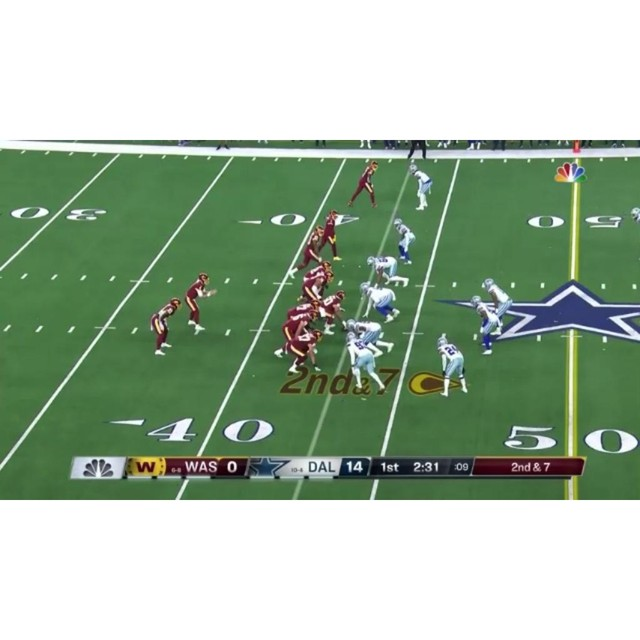american-football-player: (346, 332, 387, 394), (273, 309, 319, 358), (184, 273, 216, 335), (289, 225, 327, 277), (436, 335, 468, 396), (470, 295, 500, 355), (286, 328, 324, 375), (359, 280, 401, 322), (151, 298, 181, 356), (482, 278, 513, 334), (348, 160, 379, 208), (345, 318, 384, 355), (368, 255, 410, 287), (318, 290, 348, 334), (319, 208, 343, 261), (409, 161, 433, 211), (300, 270, 334, 304), (393, 217, 416, 264)
